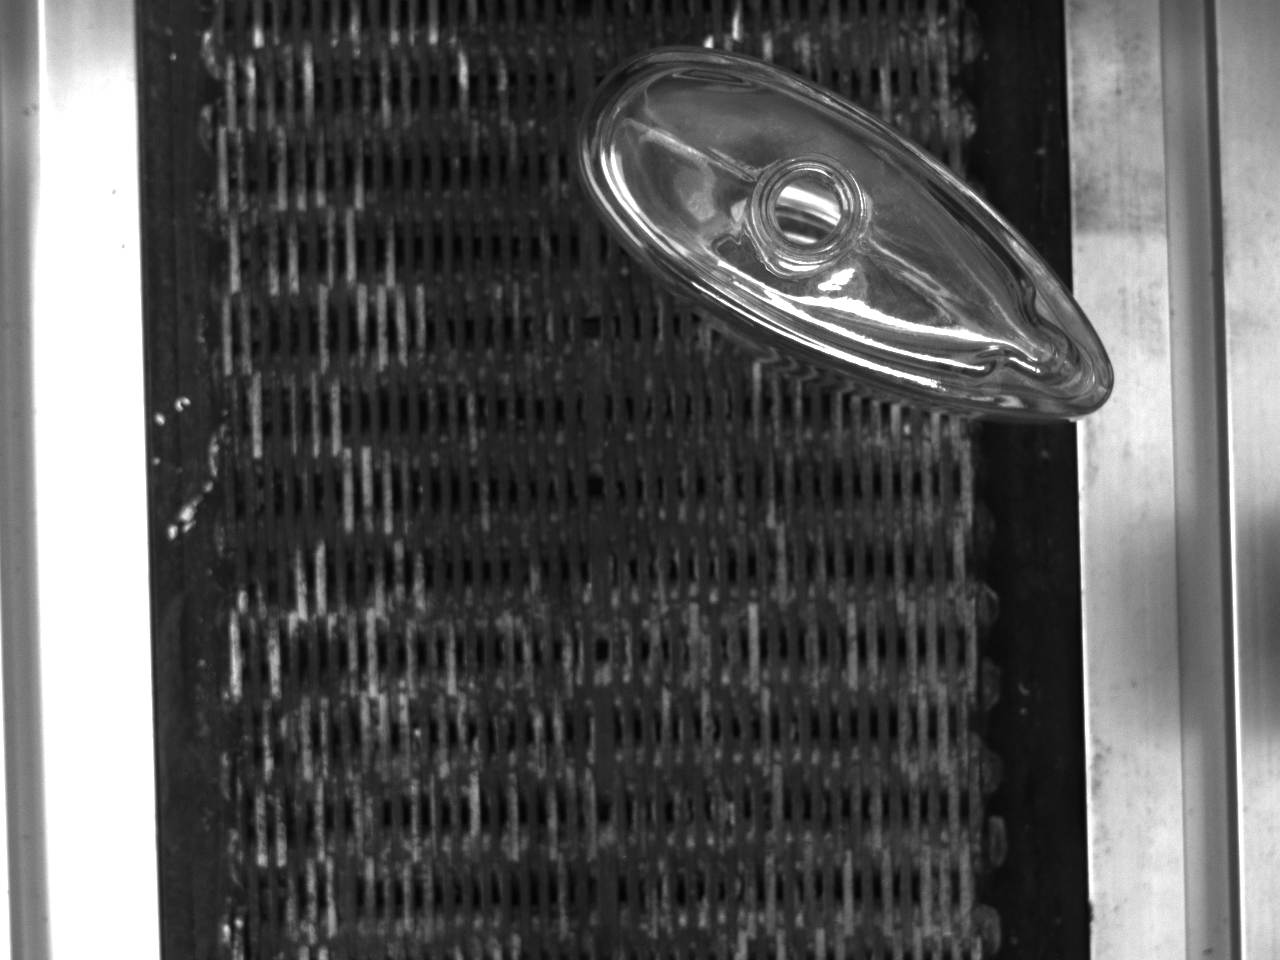bottleneck: (750, 155, 865, 265)
